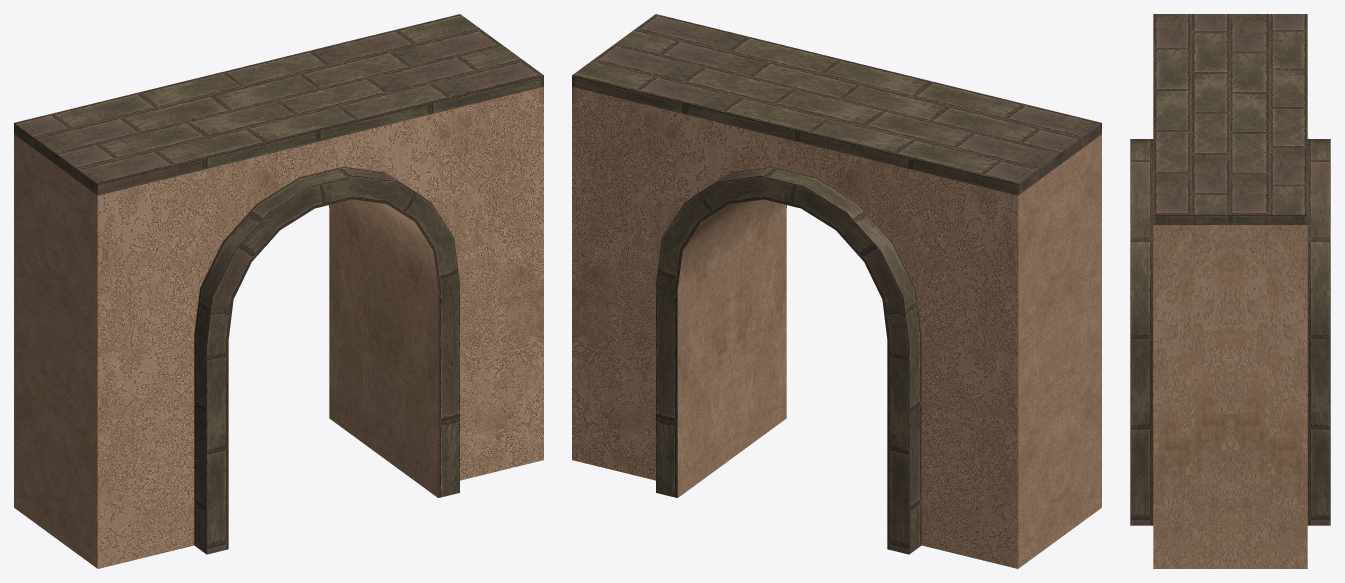
File: SewerSet1_Thin.fbx
The picture shows the model from 3 angles, left to right: view 1: azimuth 30°, elevation 25°; view 2: azimuth 150°, elevation 25°; view 3: azimuth 270°, elevation 25°; orthographic projection. The views are drawn at different scales.
Parts seen in each view (by area): view 1: Box077; view 2: Box077; view 3: Box077.
Part boxes in pixels (x1,y1,x2,y2): Box077: (14, 14, 543, 568); Box077: (572, 14, 1101, 568); Box077: (1130, 14, 1330, 568).
Bounding box in the file's own units: 2500 × 2061 × 1056.
